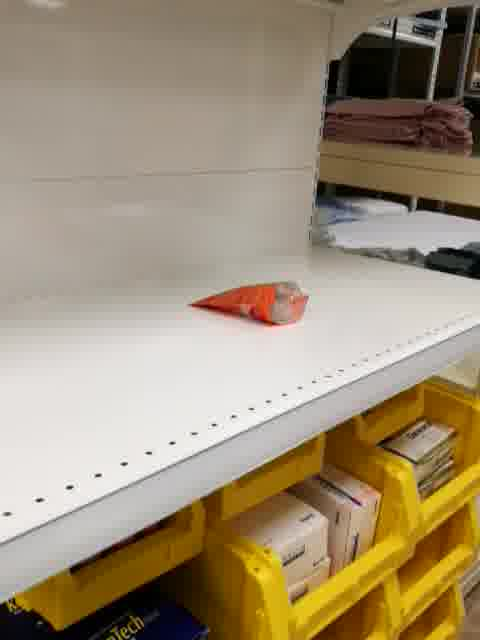whitechia: (184, 277, 310, 328)
